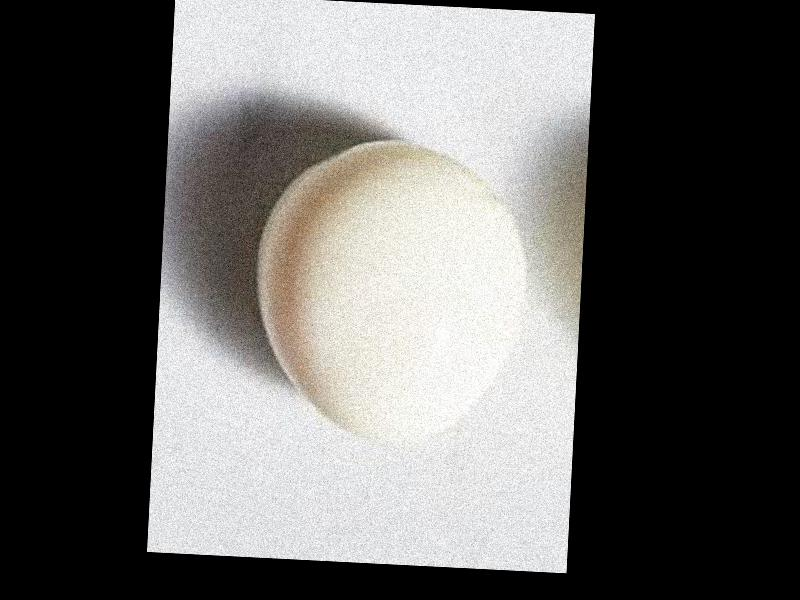Eggs: (249, 132, 532, 446)
